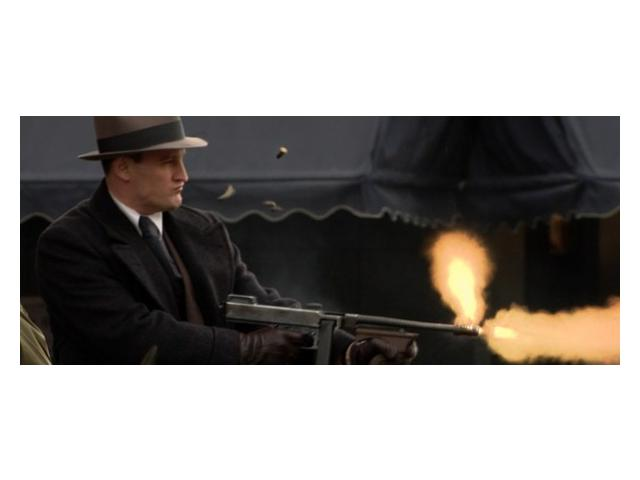rifle: (198, 289, 489, 366)
